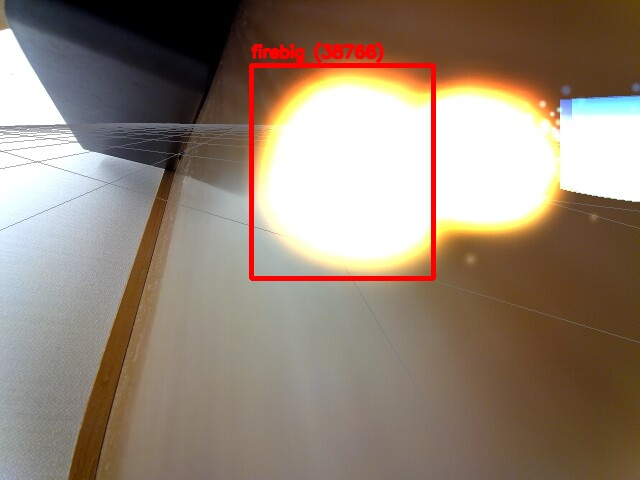firebig: (251, 65, 433, 278)
